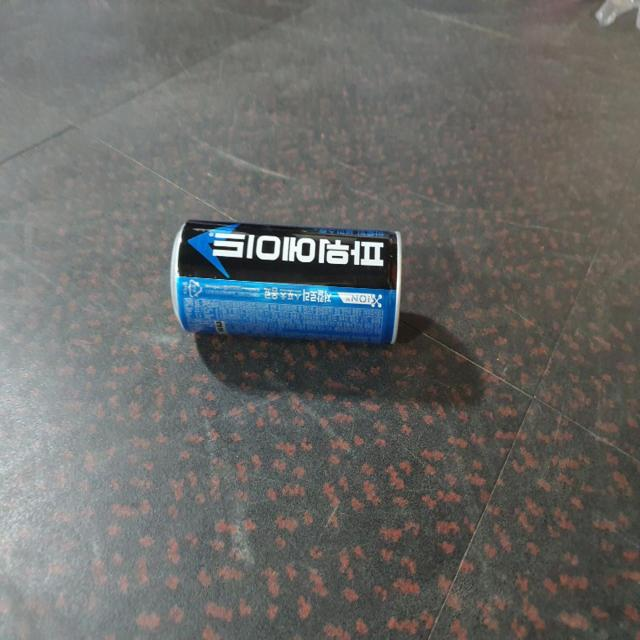can: (171, 220, 402, 344)
